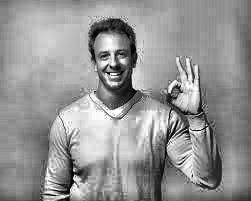happy: (85, 28, 140, 93)
